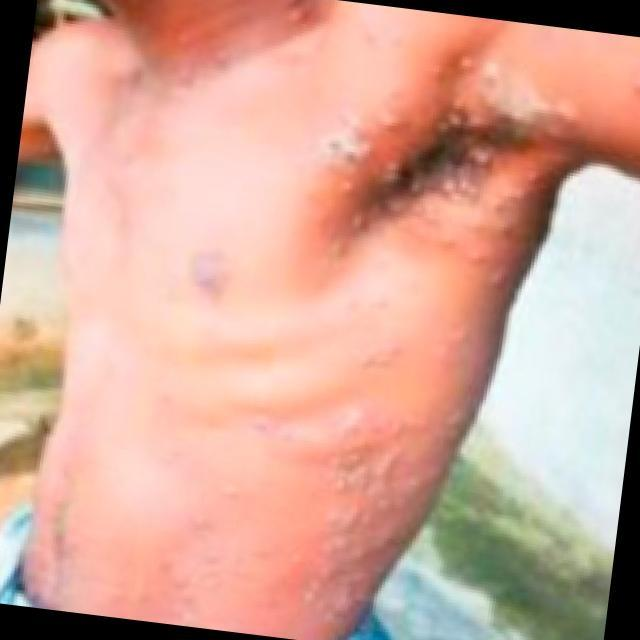Eczema: (257, 71, 578, 639)
